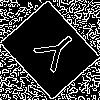Y: (24, 25, 82, 80)
